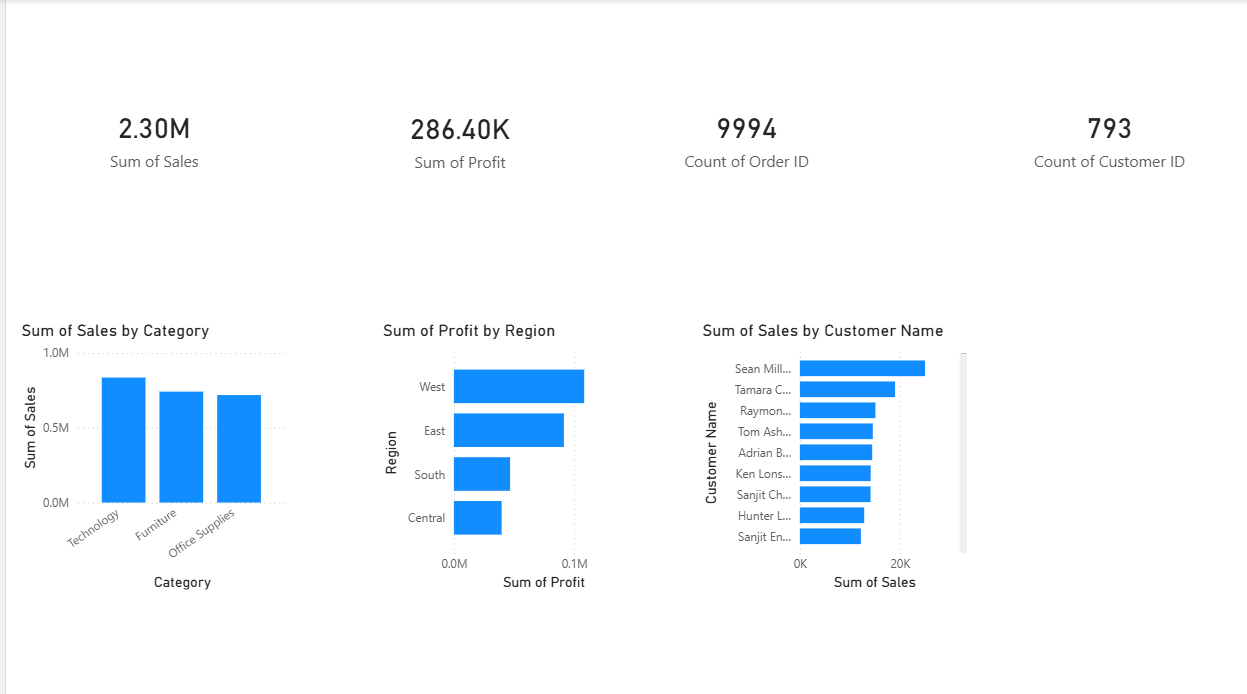

What the dashboard file says about the page in this screenshot:
{"tool":"powerbi","page":{"name":"Page 1","canvas":[1280,720],"ordinal":0},"visuals":[{"type":"card","fields":{"Values":["Sum(Sample - Superstore.Sales)"]},"box":[10,0,280,280],"z":0},{"type":"card","fields":{"Values":["Sum(Sample - Superstore.Profit)"]},"box":[322.5,1.5,279.7,279.7],"z":1},{"type":"card","fields":{"Values":["CountNonNull(Sample - Superstore.Order ID)"]},"box":[614.5,0,279.7,279.7],"z":2},{"type":"card","fields":{"Values":["Count(Sample - Superstore.Customer ID)"]},"box":[984.5,0,279.7,279.7],"z":3},{"type":"clusteredColumnChart","fields":{"Category":["Sample - Superstore.Category"],"Y":["Sum(Sample - Superstore.Sales)"]},"box":[10.7,327.1,279.7,279.7],"z":4},{"type":"clusteredBarChart","fields":{"Category":["Sample - Superstore.Region"],"Y":["Sum(Sample - Superstore.Profit)"]},"box":[379.1,327.1,279.7,279.7],"z":5},{"type":"clusteredBarChart","fields":{"Category":["Sample - Superstore.Customer Name"],"Y":["Sum(Sample - Superstore.Sales)"]},"box":[704.7,327.1,279.7,279.7],"z":6}]}

Visuals, with their boxes in screenshot pixels (x1, y1, x2, y2), scaled from the page's 1280x720 canvas onto the 1247x694 screenshot:
card - Sum(Sample - Superstore.Sales): (10,0,283,270)
card - Sum(Sample - Superstore.Profit): (314,1,587,271)
card - CountNonNull(Sample - Superstore.Order ID): (599,0,871,270)
card - Count(Sample - Superstore.Customer ID): (959,0,1232,270)
clusteredColumnChart - Sample - Superstore.Category x Sum(Sample - Superstore.Sales): (10,315,283,585)
clusteredBarChart - Sample - Superstore.Region x Sum(Sample - Superstore.Profit): (369,315,642,585)
clusteredBarChart - Sample - Superstore.Customer Name x Sum(Sample - Superstore.Sales): (687,315,959,585)
